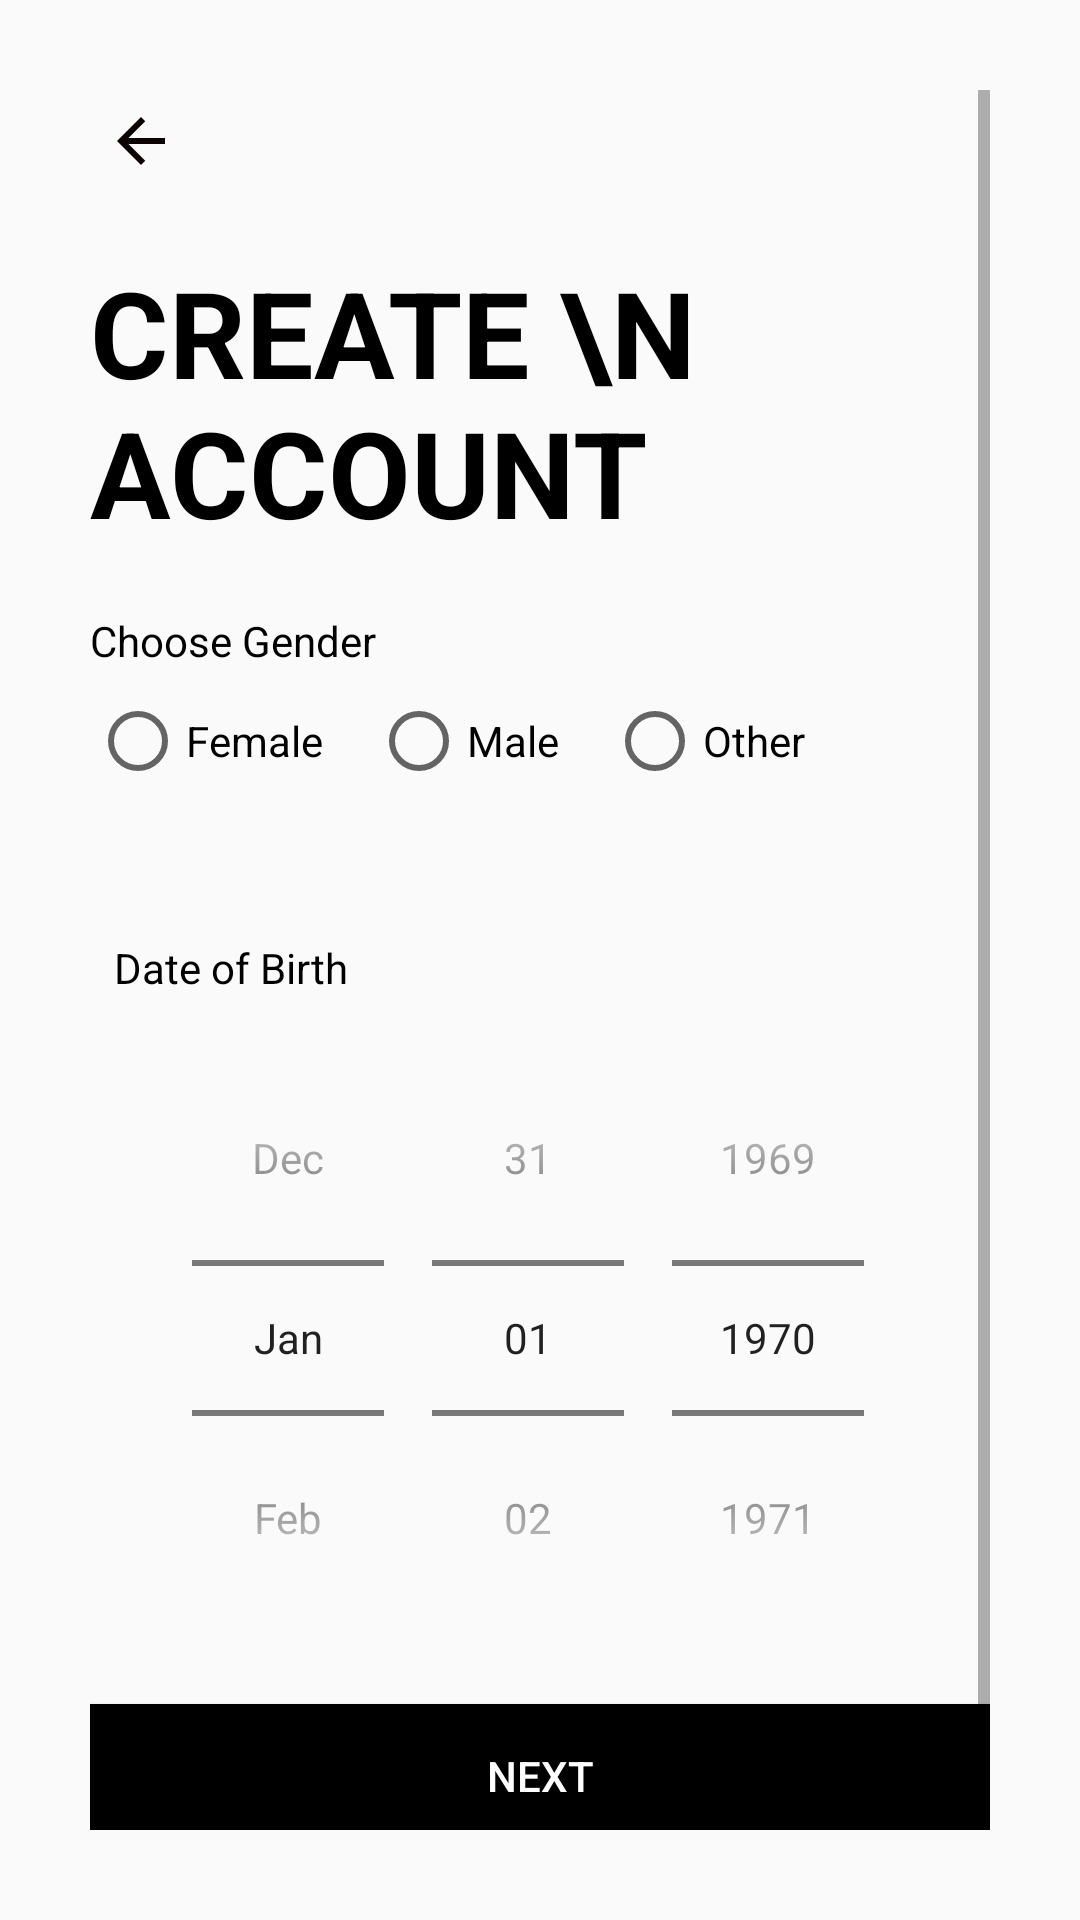

Point at icon controls on the screen. Image size 1080px×1920px, points as (x,y).
arrow back: (141,141)
